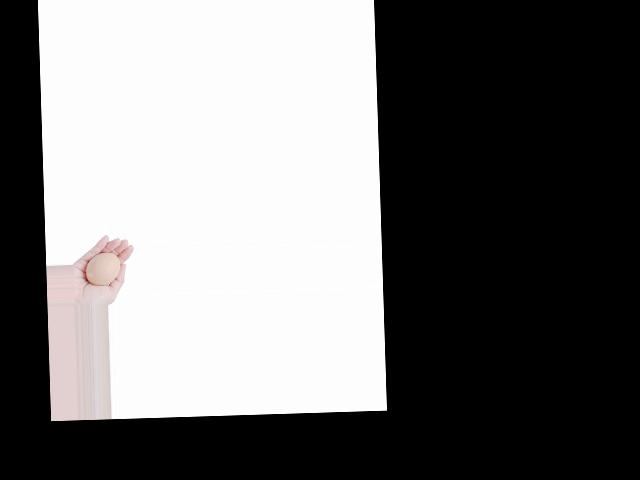egg: (85, 251, 120, 285)
